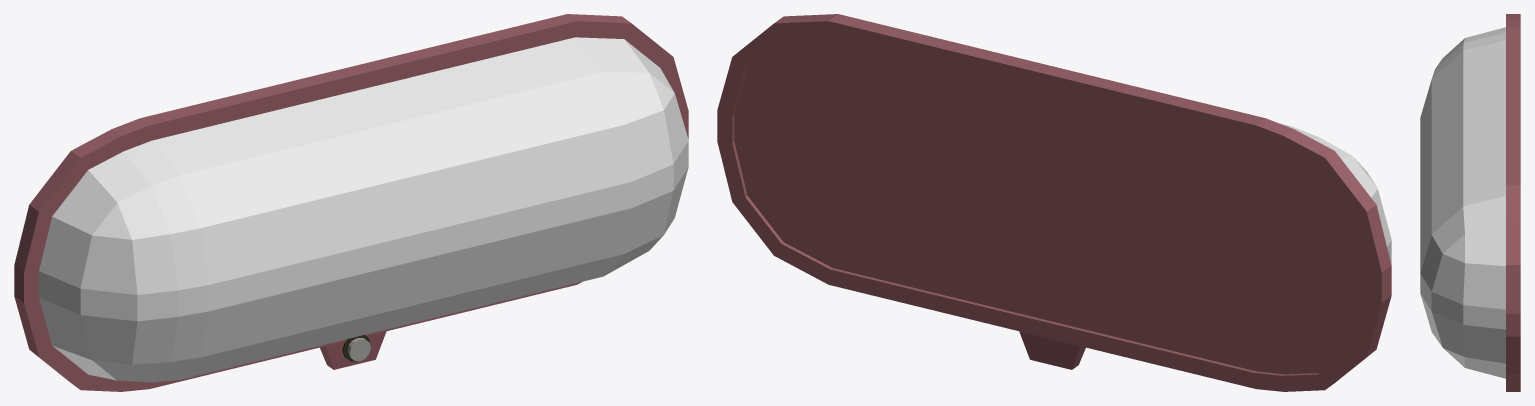
The model's file is Wall_Light.fbx.
3 views of the same model, side by side, from view 1: azimuth 30°, elevation 25°; view 2: azimuth 150°, elevation 25°; view 3: azimuth 270°, elevation 25° (orthographic). The views are drawn at different scales.
Parts seen in each view (by area): view 1: Cube; view 2: Cube; view 3: Cube.
Boxes of the visible parts, box(x1,y1,x2,y2) form: Cube: box(14, 14, 688, 391); Cube: box(717, 14, 1391, 391); Cube: box(1420, 14, 1520, 391).
Bounding box in the file's own units: 20.95 × 8.76 × 3.63.
